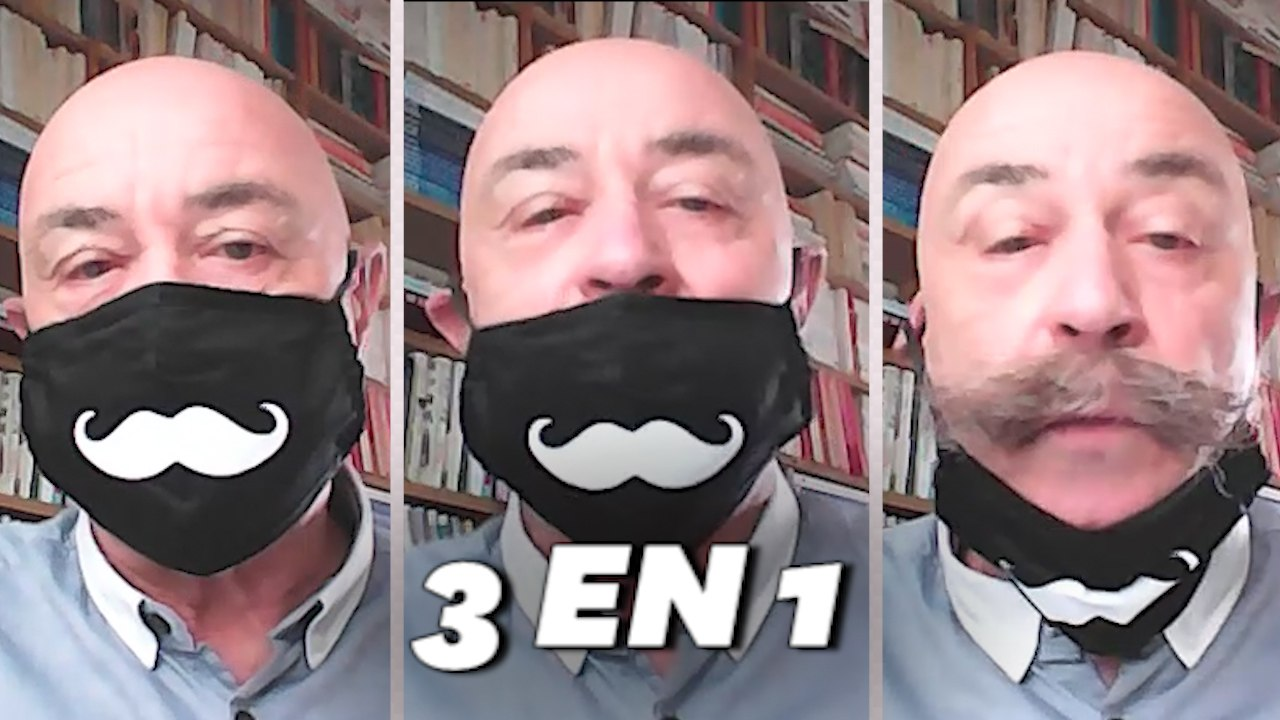with_incorrect_mask: (903, 51, 1280, 662), (425, 33, 826, 548)
with_mask: (27, 117, 385, 577)
